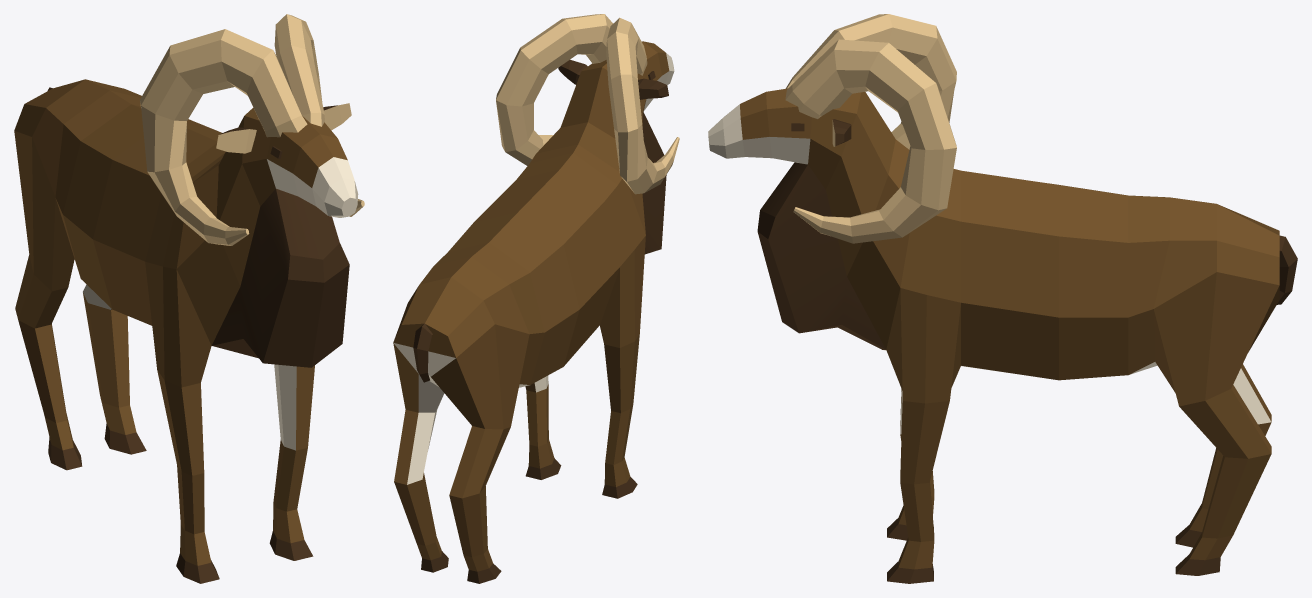
The picture shows the model from 3 angles, left to right: view 1: azimuth 30°, elevation 25°; view 2: azimuth 150°, elevation 25°; view 3: azimuth 270°, elevation 25°; orthographic projection. The views are drawn at different scales.
Visible parts, largest first — view 1: Geo_Ram; view 2: Geo_Ram; view 3: Geo_Ram.
Boxes of the visible parts, left/top/right/bottom form: Geo_Ram: left=14, top=14, right=364, bottom=583; Geo_Ram: left=393, top=14, right=679, bottom=583; Geo_Ram: left=708, top=14, right=1297, bottom=583.
Bounding box in the file's own units: 38.71 × 118 × 119.
Materials: 1 (1 with a texture image).
